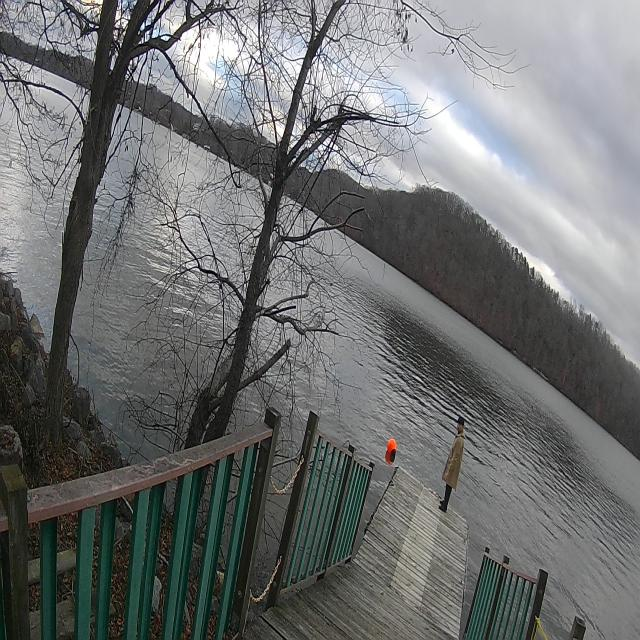Buoy: (382, 433, 402, 469)
